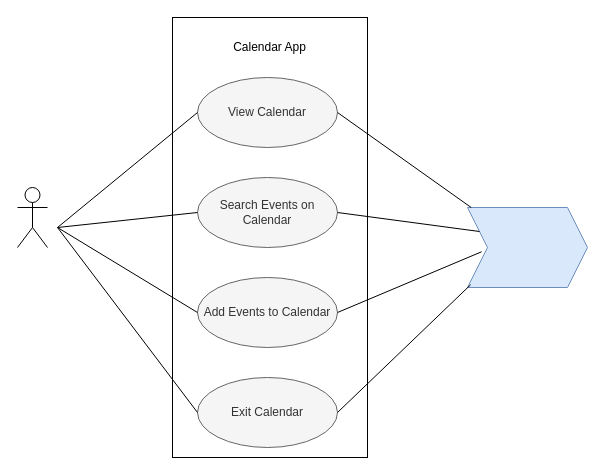
Some shapes in this 605 by 475 pixel diagram are drawn without their labels. The shapes that lost their labels are listed below. From the top down, each one's centre as x and y in pixels, then its label:
(x=32, y=217): User
(x=527, y=247): Display the respected output
